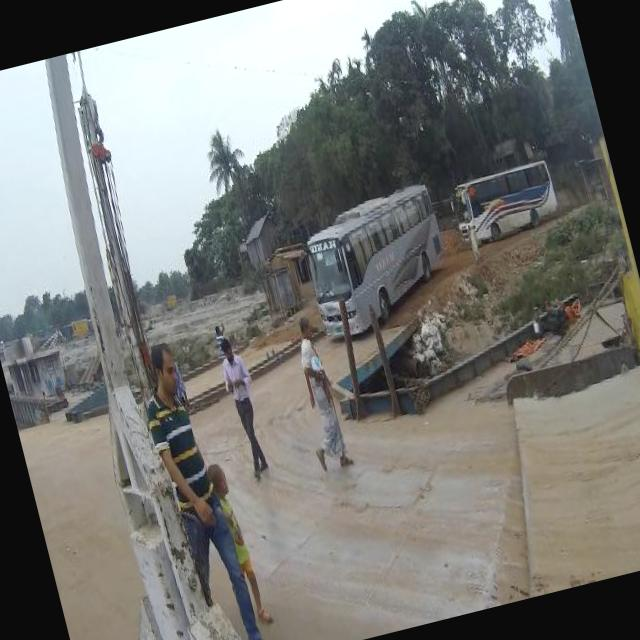bus: (288, 180, 460, 346), (446, 156, 563, 248)
